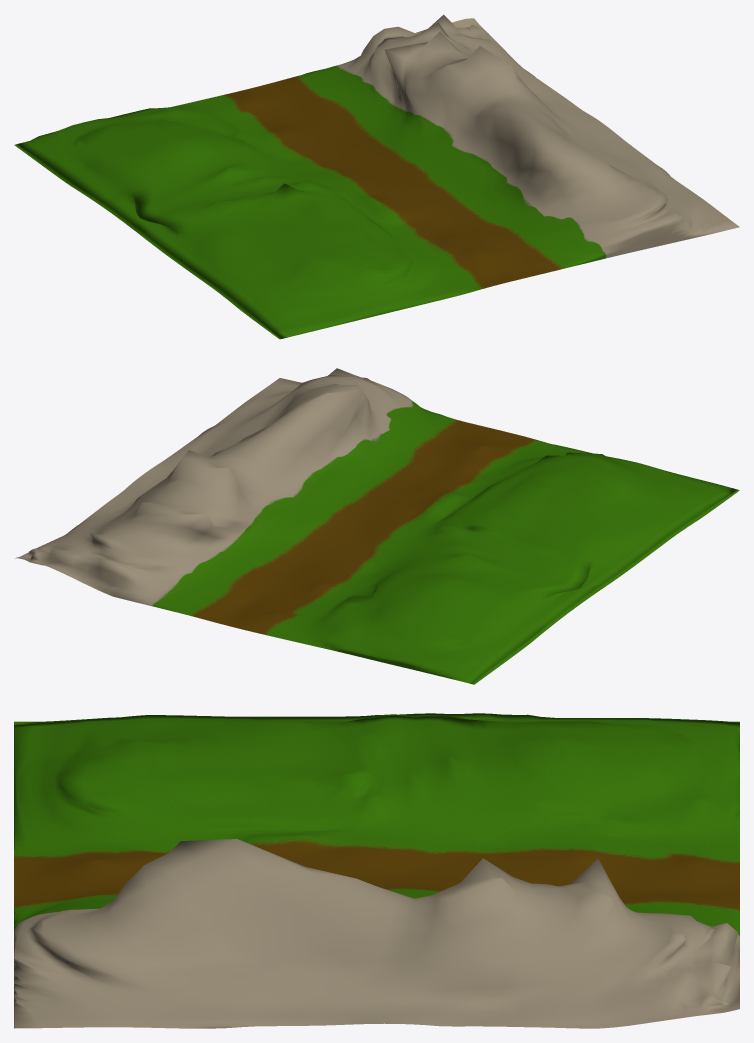
File: Plane_Env2.fbx
3 renders of one model, top to bottom at view 1: azimuth 30°, elevation 25°; view 2: azimuth 150°, elevation 25°; view 3: azimuth 270°, elevation 25°, orthographic. The views are drawn at different scales.
Parts seen in each view (by area): view 1: Plane_Low_1; view 2: Plane_Low_1; view 3: Plane_Low_1.
Boxes of the visible parts, x1,y1,x2,y2 form: Plane_Low_1: [14, 14, 739, 339]; Plane_Low_1: [15, 368, 739, 684]; Plane_Low_1: [14, 713, 739, 1028].
Bounding box in the file's own units: 10001 × 10000 × 1606.
Materials: 1 (1 with a texture image).
